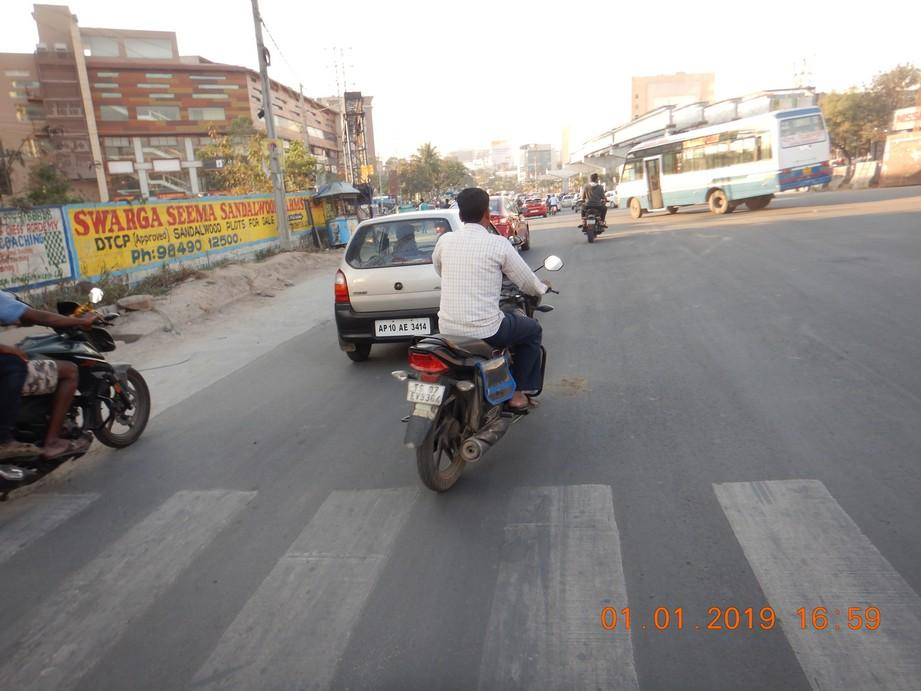plate: (406, 379, 444, 407)
